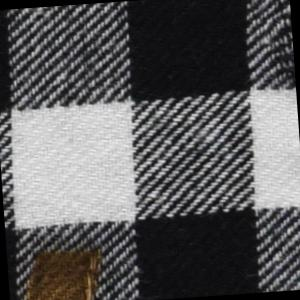Damage: (261, 1, 297, 95)
Oil Stain: (21, 244, 109, 300)
